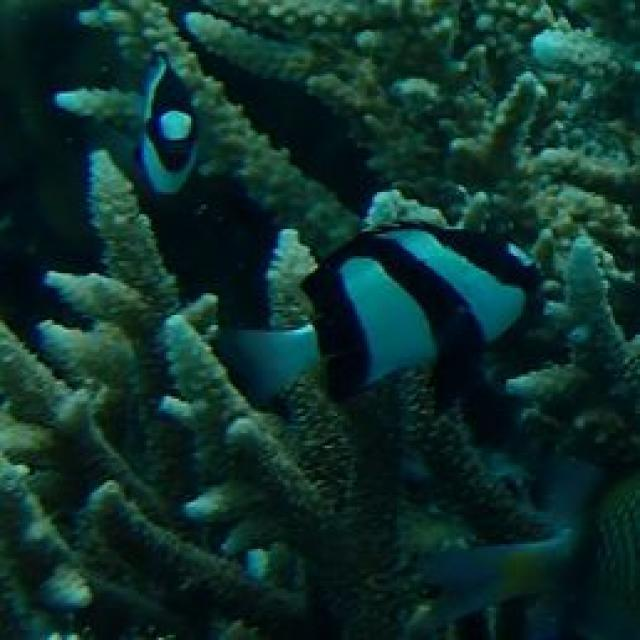Three_striped DasmselFish: (229, 224, 540, 416)
